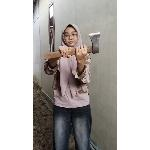Kapak: (41, 29, 103, 61)
